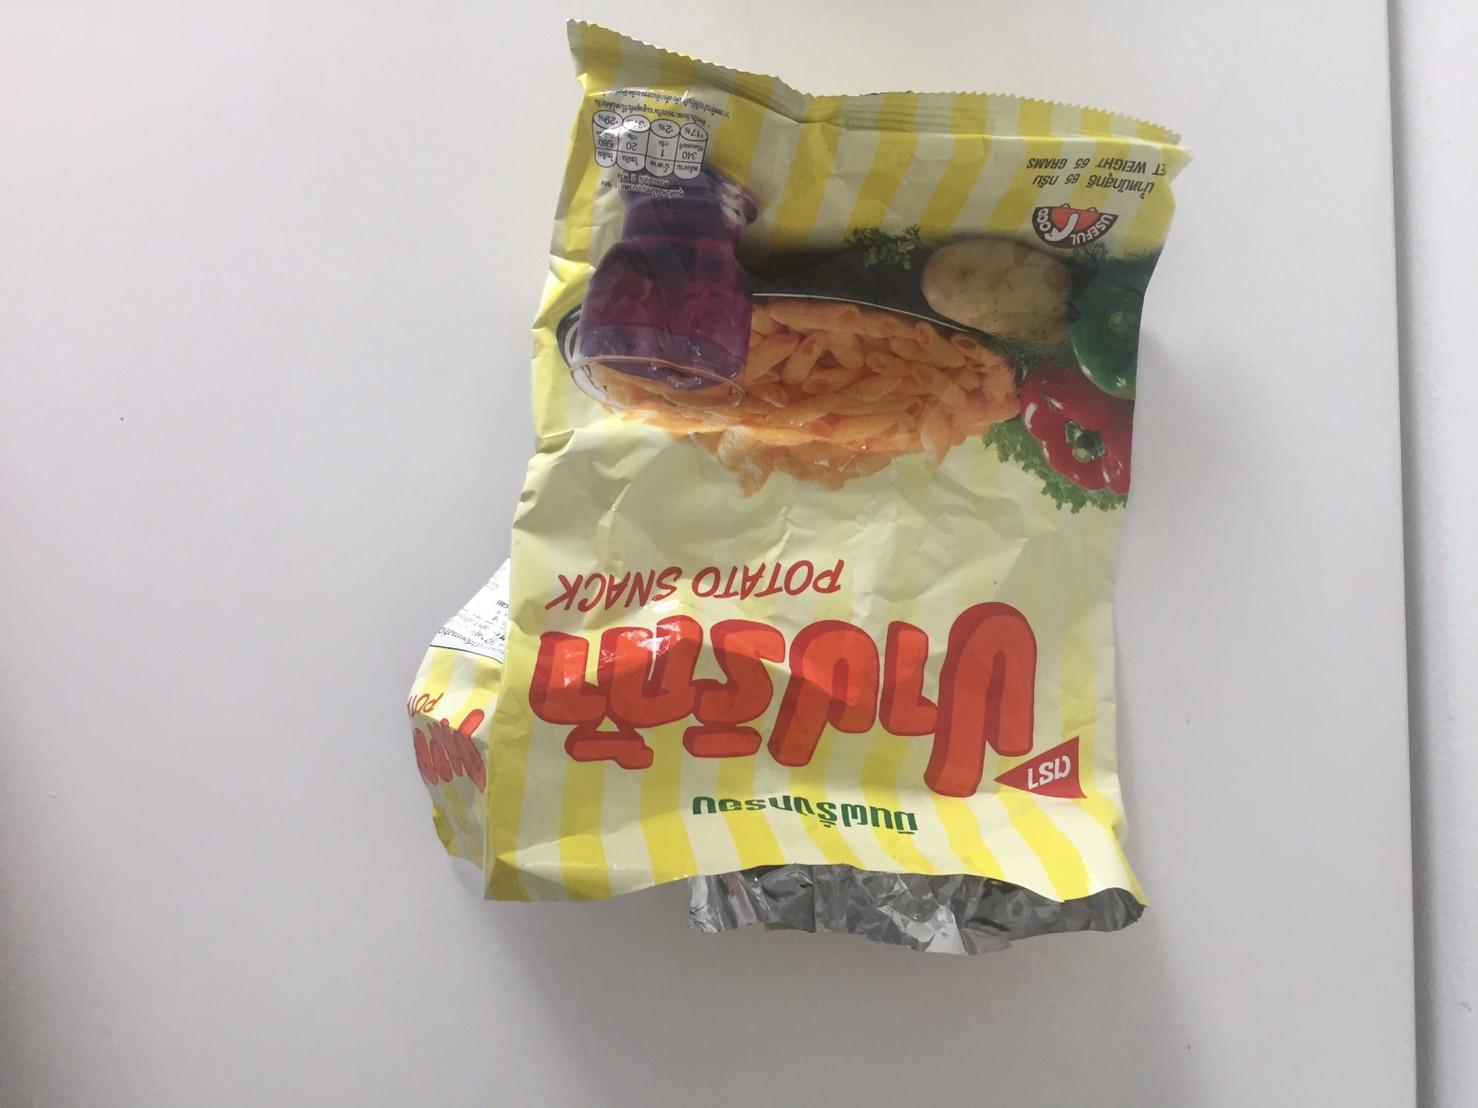plastic: (406, 2, 1154, 979)
